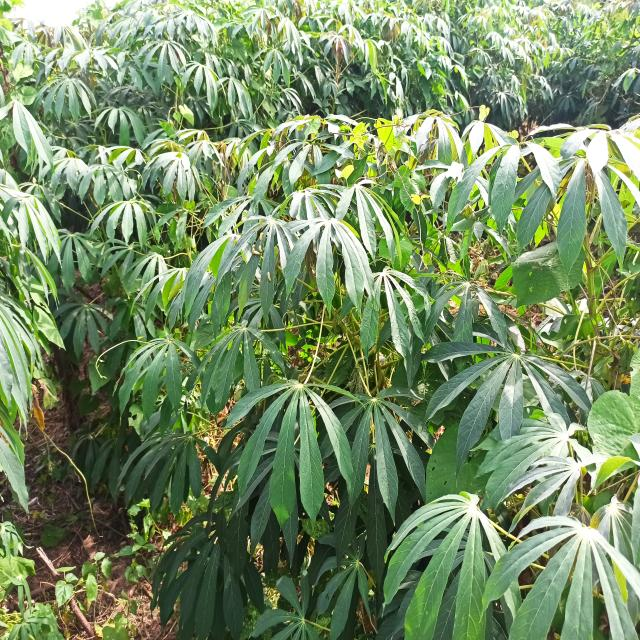Maleza: (587, 377, 640, 485), (514, 237, 581, 309)
Mosca: (250, 237, 266, 255), (260, 269, 274, 289), (69, 163, 85, 177)
